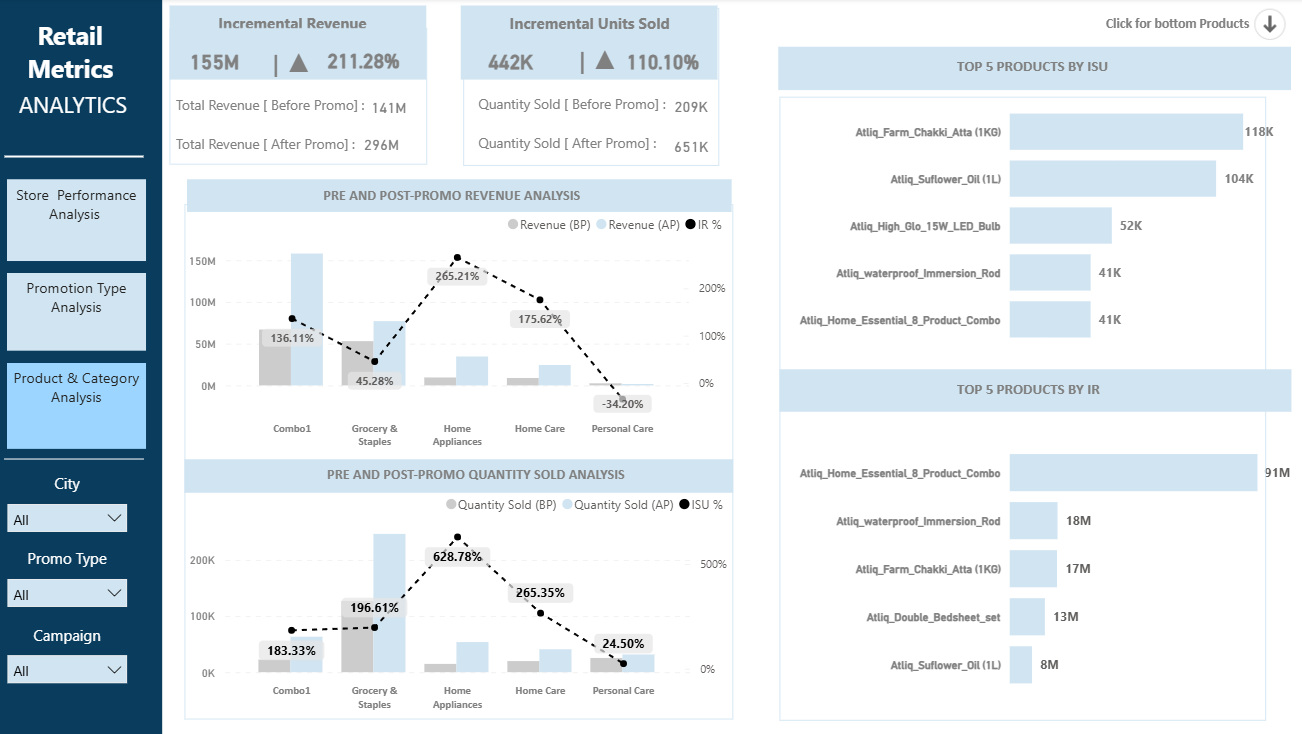

Layout of this report page (visuals, bound fields, positions):
{"tool":"powerbi","page":{"name":"Product & Category Analysis","canvas":[1280,720],"ordinal":2},"visuals":[{"type":"textbox","box":[185.8,177.2,533,31.8],"z":0},{"type":"textbox","box":[765.2,362.8,501.2,41.6],"z":1000},{"type":"textbox","box":[764.6,47.2,501.5,42.2],"z":2000},{"type":"clusteredBarChart","fields":{"Category":["dim_products.product_name"],"Y":["Sum(fact_events.ISU)"]},"box":[779.5,82.1,475,275],"z":3000},{"type":"clusteredBarChart","fields":{"Category":["dim_products.product_name"],"Y":["Sum(fact_events.IR)"]},"box":[778.9,414.5,491.6,281.3],"z":4000},{"type":"textbox","box":[0,0,161.9,720.4],"z":5000},{"type":"textbox","box":[933.9,52.6,173.6,31.8],"z":6000},{"type":"textbox","box":[1079.9,9.9,161.4,39.7],"z":7000},{"type":"image","box":[1225.1,4.6,40.3,41.6],"z":8000},{"type":"textbox","box":[765.5,96.6,475.7,610],"z":9000},{"type":"textbox","box":[183.4,201.8,536.8,503.8],"z":10000},{"type":"textbox","box":[0,15.9,143.1,79.5],"z":12000},{"type":"textbox","box":[0,84.4,143.1,45.2],"z":13000},{"type":"shape","box":[6.7,130.6,136,48.5],"z":14000},{"type":"slicer","title":"City","fields":{"Values":["dim_stores.city"]},"box":[0,464.7,137.3,74],"z":15000},{"type":"slicer","title":"Promo Type","fields":{"Values":["fact_events.promo_type"]},"box":[0,538.2,137.3,74],"z":16000},{"type":"slicer","title":"Campaign","fields":{"Values":["dim_campaigns.campaign_name"]},"box":[0,612.3,137.3,74],"z":17000},{"type":"shape","box":[6.7,426.8,136,48.5],"z":18000},{"type":"textbox","box":[9.8,177.3,135.7,80],"z":19000},{"type":"textbox","box":[9.8,269,135.7,75.8],"z":20000},{"type":"textbox","box":[9.8,357.1,135.7,84.4],"z":21000},{"type":"image","box":[1104.3,-75.2,37.5,41.2],"z":22000},{"type":"textbox","box":[933.9,367.9,172.4,31.8],"z":23000},{"type":"textbox","box":[314.5,178.6,310.3,33.5],"z":30000},{"type":"shape","box":[169.2,7.8,251.2,72.5],"z":31000},{"type":"card","fields":{"Values":["Sum(fact_events.Total Revenue(after_promo))"]},"box":[317.6,121.1,117.1,48.5],"z":32000},{"type":"card","fields":{"Values":["Sum(fact_events.Total Revenue(before_promo))"]},"box":[335.4,85,96.9,45.8],"z":33000},{"type":"card","fields":{"Values":["Sum(fact_events.IR)"]},"box":[173.7,44.6,78.4,37.4],"z":34000},{"type":"textbox","box":[169.8,90.4,204.6,35],"z":35000},{"type":"textbox","box":[169.8,127.9,204.6,35],"z":36000},{"type":"textbox","box":[211.7,10.3,171.2,42.5],"z":37000},{"type":"textbox","box":[168.8,29.3,251.9,133.3],"z":38000},{"type":"shape","box":[454.2,6.8,251.2,72.5],"z":39000},{"type":"card","fields":{"Values":["Sum(fact_events.ISU)"]},"box":[468.2,44,68.5,37.9],"z":40000},{"type":"textbox","box":[465.6,89.4,204.6,35],"z":41000},{"type":"textbox","box":[465.6,126.9,204.6,35],"z":42000},{"type":"textbox","box":[496.2,10,210,41.7],"z":43000},{"type":"textbox","box":[456.1,9.8,250.7,154.1],"z":44000},{"type":"card","fields":{"Values":["Measures (2).ISU %"]},"box":[296.7,22.9,123,78.4],"z":45000},{"type":"card","fields":{"Values":["Measures (2).IR %"]},"box":[608,30.2,87.5,64.6],"z":46000},{"type":"card","fields":{"Values":["Measures (2).Icon for IR"]},"box":[252.1,41,74.8,43.4],"z":47000},{"type":"card","fields":{"Values":["Measures (2).Icon for ISU"]},"box":[513.8,15.7,150.8,89.2],"z":48000},{"type":"card","fields":{"Values":["Sum(fact_events.quantity_sold(before_promo))"]},"box":[631.2,84,96.9,45.8],"z":49000},{"type":"card","fields":{"Values":["Sum(fact_events.Qunatity Sold After Promotion)"]},"box":[630.8,123,96.9,45.8],"z":50000},{"type":"shape","box":[7.3,269,149.2,75.8],"z":51000},{"type":"shape","box":[7.3,178.5,143.1,78.3],"z":52000},{"type":"lineClusteredColumnComboChart","fields":{"Category":["dim_products.category","dim_products.product_name"],"Y":["Sum(fact_events.Total Revenue(before_promo))","Sum(fact_events.Revenue after promotion)"],"Y2":["Measures (2).IR %"]},"box":[182.1,201.7,536.6,248.1],"z":53000},{"type":"textbox","box":[183.4,451.1,536.6,33],"z":54000},{"type":"textbox","box":[317.8,451.1,310.5,33],"z":56000},{"type":"lineClusteredColumnComboChart","fields":{"Category":["dim_products.category","dim_products.product_name"],"Y2":["Measures (2).ISU %"],"Y":["Sum(fact_events.quantity_sold(before_promo))","Sum(fact_events.quantity_sold(after_promo))"]},"box":[183.4,475.5,536.6,231],"z":57000}]}

Visuals, with their boxes in screenshot pixels (x1, y1, x2, y2), scaled from the page's 1280x720 canvas onto the 1302x734 screenshot:
textbox: (x1=189, y1=181, x2=731, y2=213)
textbox: (x1=778, y1=370, x2=1288, y2=412)
textbox: (x1=778, y1=48, x2=1288, y2=91)
clusteredBarChart - dim_products.product_name x Sum(fact_events.ISU): (x1=793, y1=84, x2=1276, y2=364)
clusteredBarChart - dim_products.product_name x Sum(fact_events.IR): (x1=792, y1=423, x2=1292, y2=709)
textbox: (x1=0, y1=0, x2=165, y2=733)
textbox: (x1=950, y1=54, x2=1127, y2=86)
textbox: (x1=1098, y1=10, x2=1263, y2=51)
image: (x1=1246, y1=5, x2=1287, y2=47)
textbox: (x1=779, y1=98, x2=1263, y2=720)
textbox: (x1=187, y1=206, x2=733, y2=719)
textbox: (x1=0, y1=16, x2=146, y2=97)
textbox: (x1=0, y1=86, x2=146, y2=132)
shape: (x1=7, y1=133, x2=145, y2=183)
"City" slicer: (x1=0, y1=474, x2=140, y2=549)
"Promo Type" slicer: (x1=0, y1=549, x2=140, y2=624)
"Campaign" slicer: (x1=0, y1=624, x2=140, y2=700)
shape: (x1=7, y1=435, x2=145, y2=485)
textbox: (x1=10, y1=181, x2=148, y2=262)
textbox: (x1=10, y1=274, x2=148, y2=352)
textbox: (x1=10, y1=364, x2=148, y2=450)
textbox: (x1=950, y1=375, x2=1125, y2=407)
textbox: (x1=320, y1=182, x2=636, y2=216)
shape: (x1=172, y1=8, x2=428, y2=82)
card - Sum(fact_events.Total Revenue(after_promo)): (x1=323, y1=123, x2=442, y2=173)
card - Sum(fact_events.Total Revenue(before_promo)): (x1=341, y1=87, x2=440, y2=133)
card - Sum(fact_events.IR): (x1=177, y1=45, x2=256, y2=84)
textbox: (x1=173, y1=92, x2=381, y2=128)
textbox: (x1=173, y1=130, x2=381, y2=166)
textbox: (x1=215, y1=11, x2=389, y2=54)
textbox: (x1=172, y1=30, x2=428, y2=166)
shape: (x1=462, y1=7, x2=718, y2=81)
card - Sum(fact_events.ISU): (x1=476, y1=45, x2=546, y2=83)
textbox: (x1=474, y1=91, x2=682, y2=127)
textbox: (x1=474, y1=129, x2=682, y2=165)
textbox: (x1=505, y1=10, x2=718, y2=53)
textbox: (x1=464, y1=10, x2=719, y2=167)
card - Measures (2).ISU %: (x1=302, y1=23, x2=427, y2=103)
card - Measures (2).IR %: (x1=618, y1=31, x2=707, y2=97)
card - Measures (2).Icon for IR: (x1=256, y1=42, x2=333, y2=86)
card - Measures (2).Icon for ISU: (x1=523, y1=16, x2=676, y2=107)
card - Sum(fact_events.quantity_sold(before_promo)): (x1=642, y1=86, x2=741, y2=132)
card - Sum(fact_events.Qunatity Sold After Promotion): (x1=642, y1=125, x2=740, y2=172)
shape: (x1=7, y1=274, x2=159, y2=352)
shape: (x1=7, y1=182, x2=153, y2=262)
lineClusteredColumnComboChart - dim_products.category x dim_products.product_name: (x1=185, y1=206, x2=731, y2=459)
textbox: (x1=187, y1=460, x2=732, y2=494)
textbox: (x1=323, y1=460, x2=639, y2=494)
lineClusteredColumnComboChart - dim_products.category x dim_products.product_name: (x1=187, y1=485, x2=732, y2=720)
